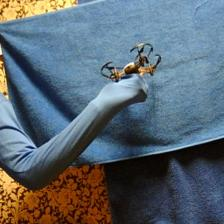drone: (99, 43, 164, 87)
